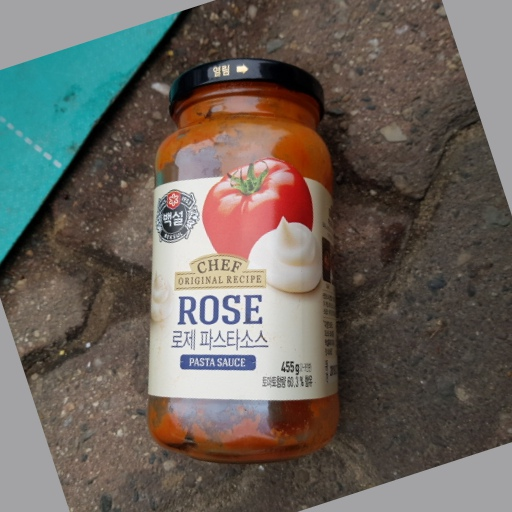Glass_5: (144, 58, 348, 461)
